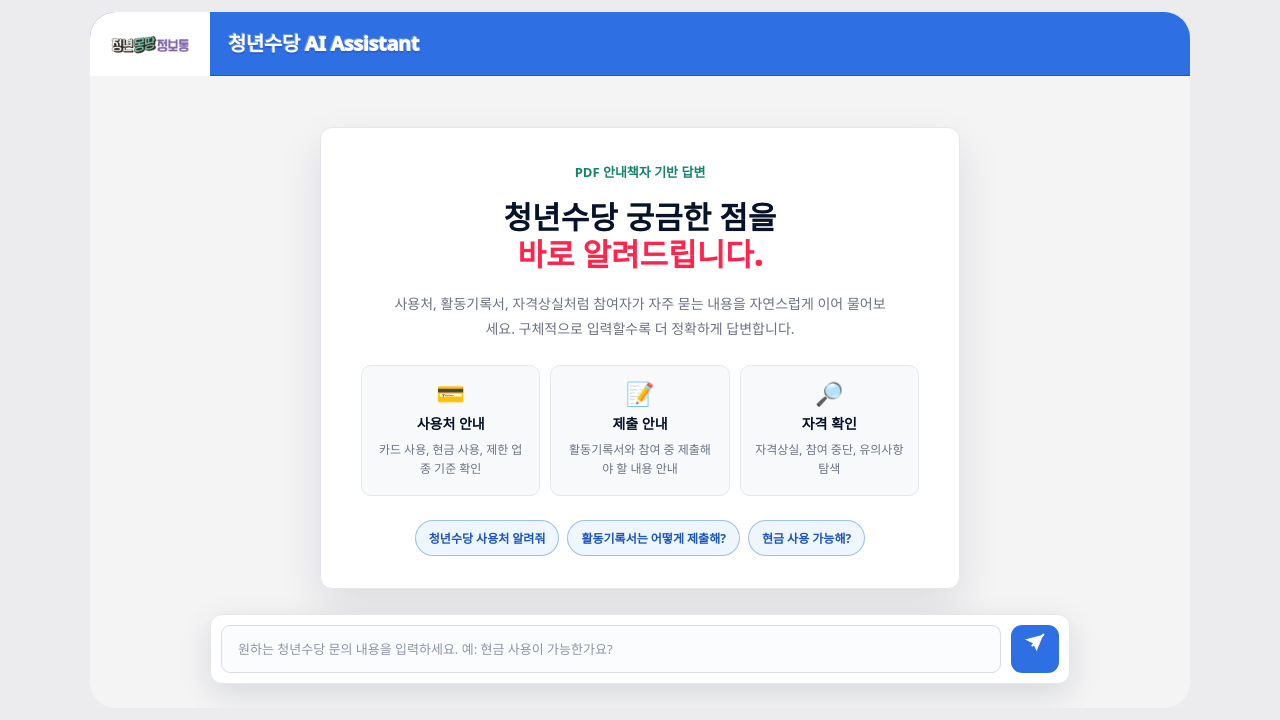
Test: shows topic-specific loading message for delivery payment questions
Step 1. Type "청년수당으로 배달의 민족 결제해도 돼?" into the field named "청년수당 질문" → [611, 649], box x1=221 y1=625 x2=1001 y2=673
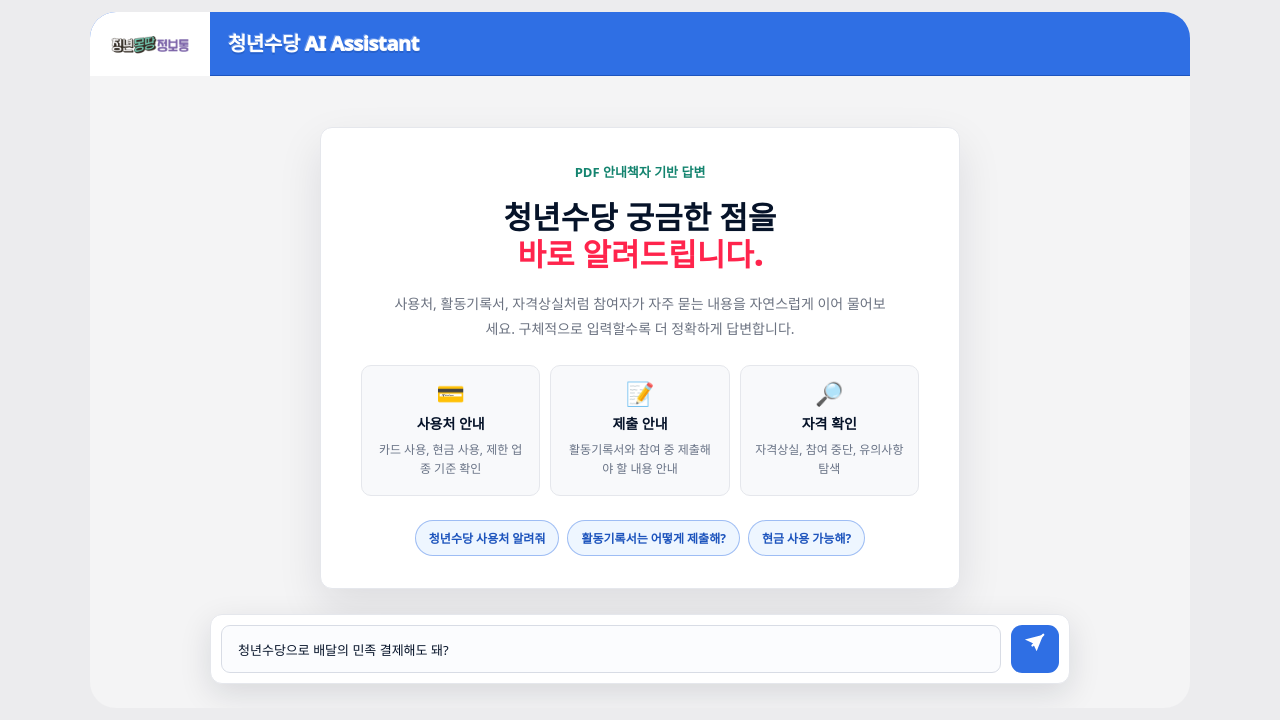
Step 2. Click the button "보내기" → [1035, 649], box x1=1011 y1=625 x2=1059 y2=673
Wait 5000 ms
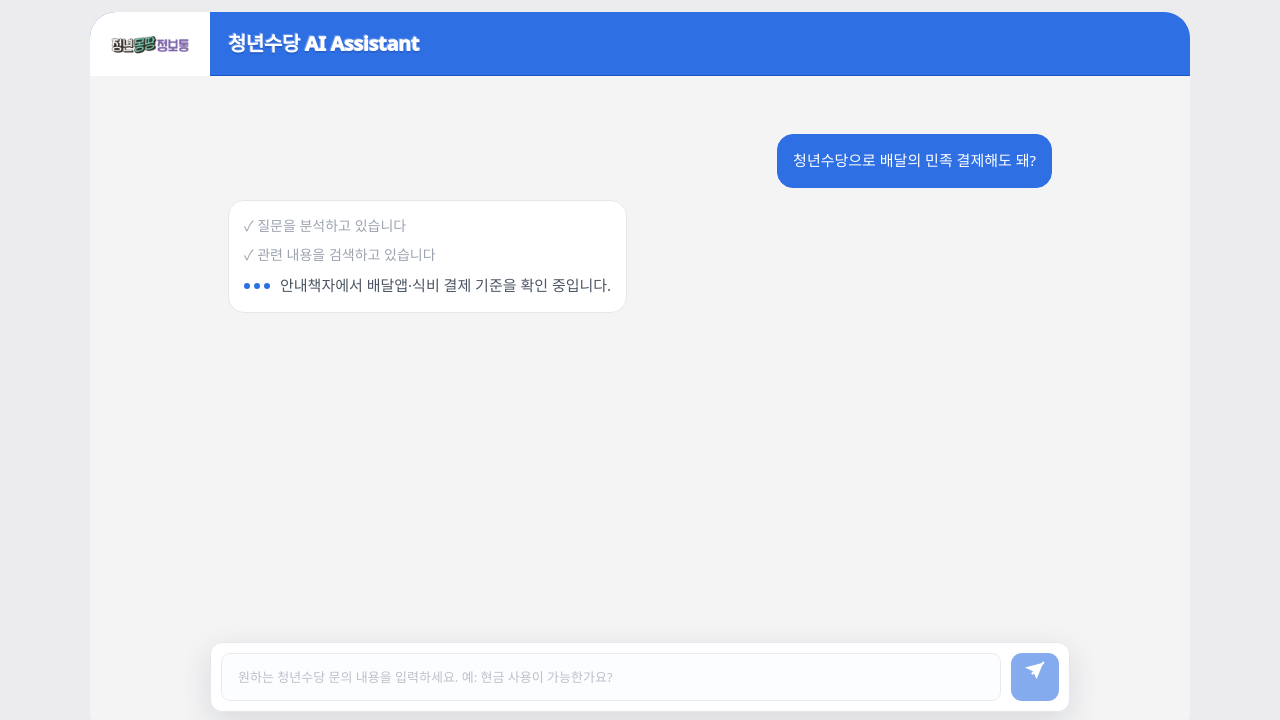
expect the message shows "안내책자에서 배달앱·식비 결제 기준을 확인 중입니다.": met, box x1=280 y1=275 x2=611 y2=295
